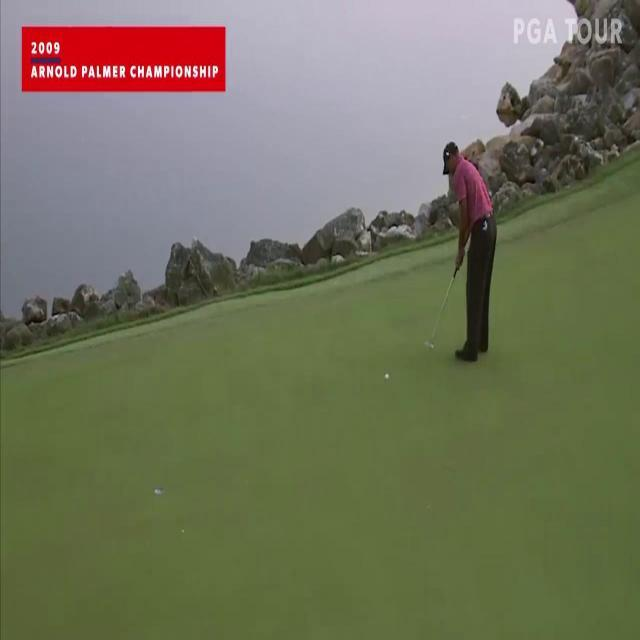GolfBall: (380, 368, 394, 385)
